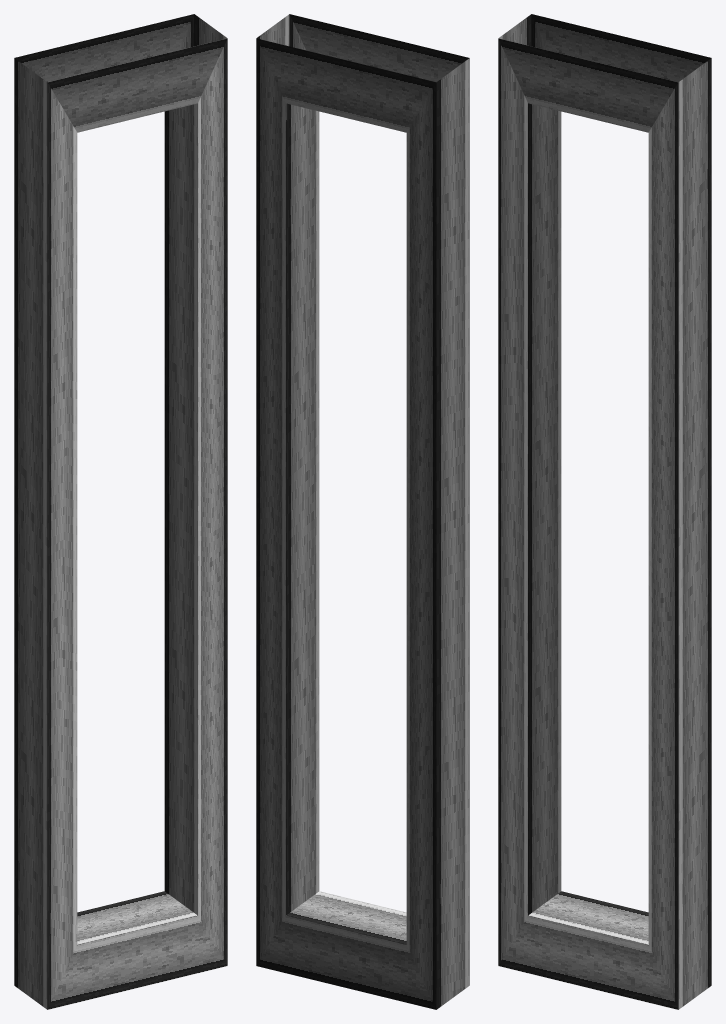
The model's file is primary_053.glb.
The picture shows the model from 3 angles, left to right: view 1: azimuth 30°, elevation 25°; view 2: azimuth 150°, elevation 25°; view 3: azimuth 330°, elevation 25°; orthographic projection.
Visible parts, largest first — view 1: Object; view 2: Object; view 3: Object.
Part boxes in pixels (x1,y1,x2,y2): Object: (14,14,227,1009); Object: (256,14,469,1009); Object: (498,14,711,1009).
Bounding box in the file's own units: 0.5243 × 2.58 × 0.1678.
9 materials, 9 textured.
